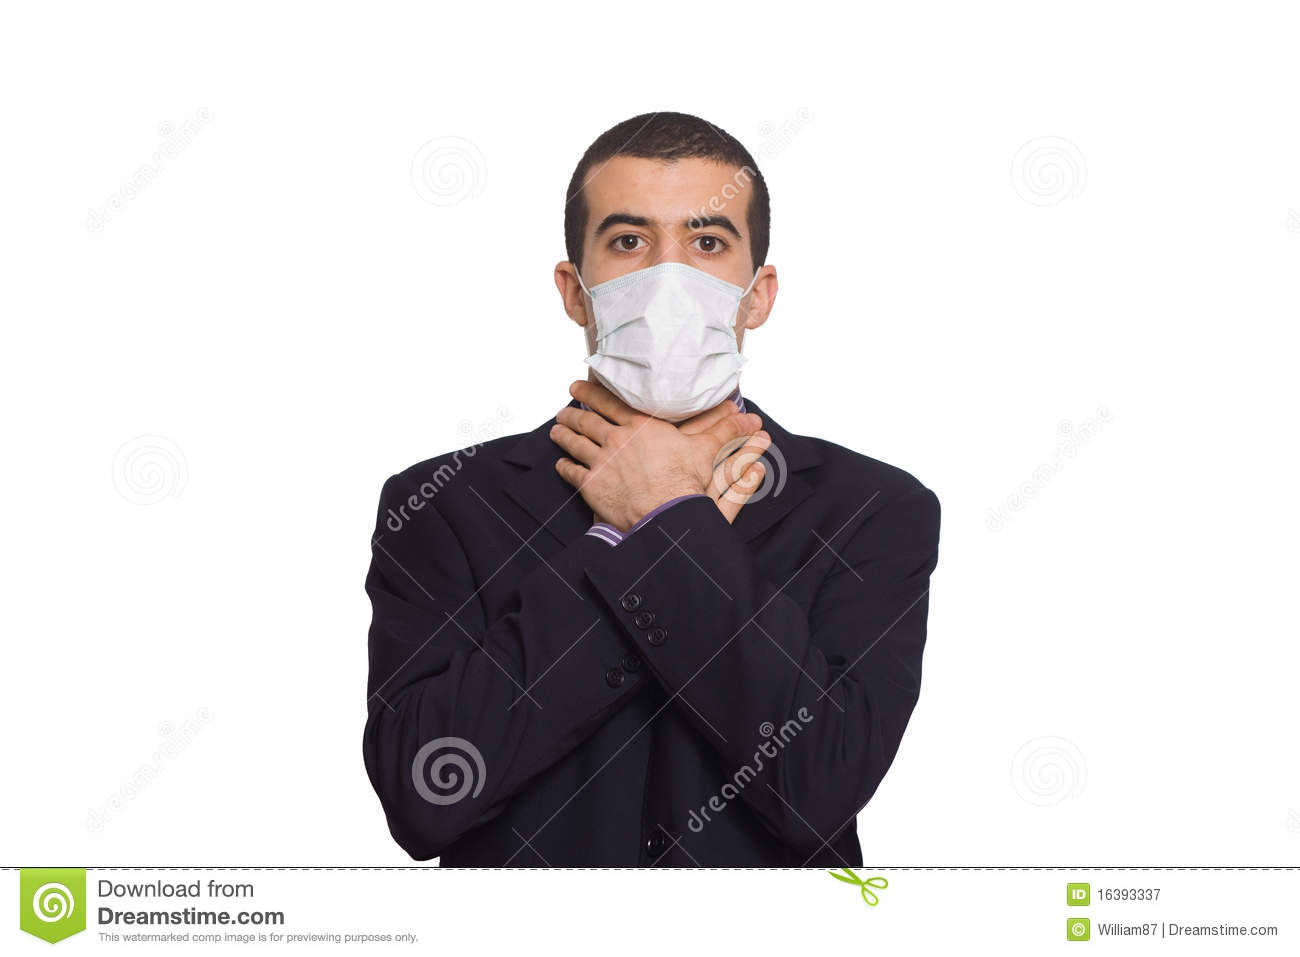mask: (583, 280, 760, 413)
